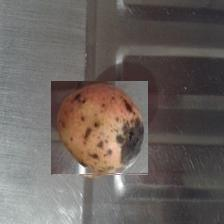Mango Semirotten: (51, 82, 148, 176)
